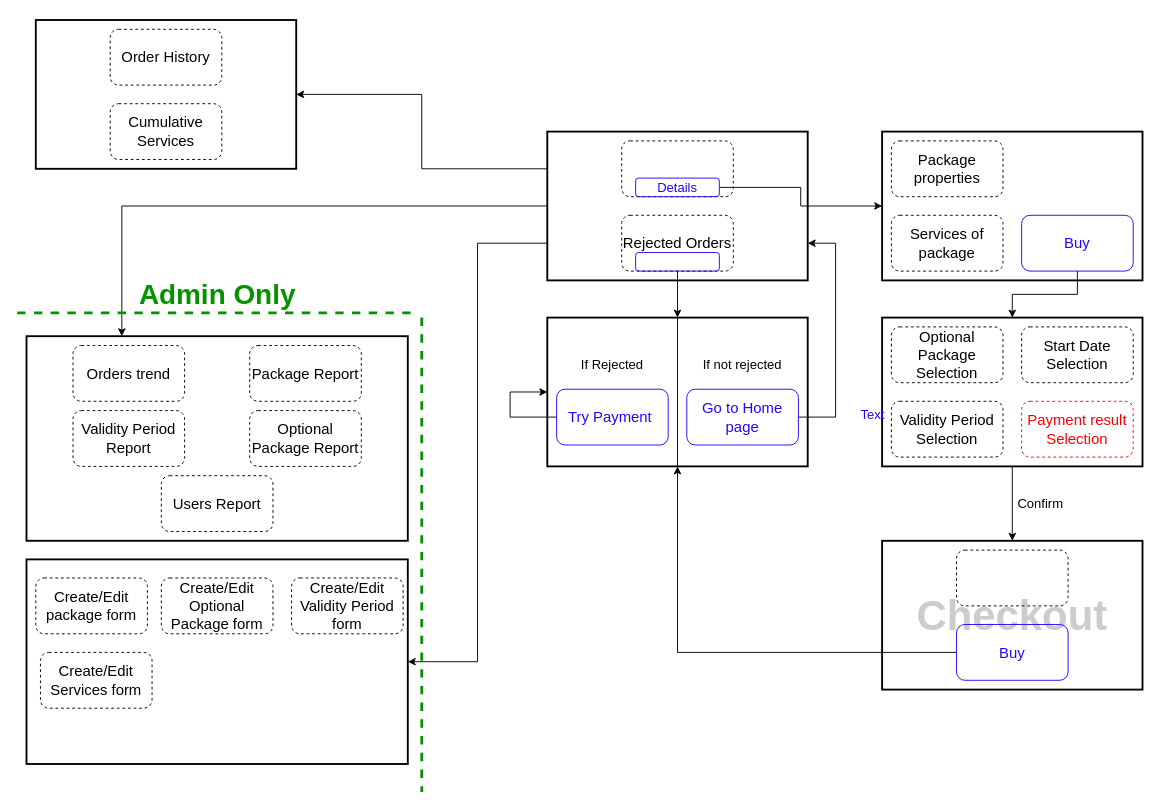
The diagram is 1160 pixels wide and 809 high, and some of its shapes have lost their labels. Each missing label, with the box of its shape:
Admin Dashboard: (25, 335, 408, 541)
Admin Settings: (25, 558, 408, 764)
Home Page: (546, 130, 808, 281)
Order details: (881, 316, 1143, 467)
Order recap: (956, 549, 1068, 606)
Package Details: (881, 130, 1143, 281)
Packages: (621, 140, 733, 197)
Result Page: (546, 316, 808, 467)
select: (635, 252, 719, 271)
User Dashboard: (34, 19, 297, 169)
